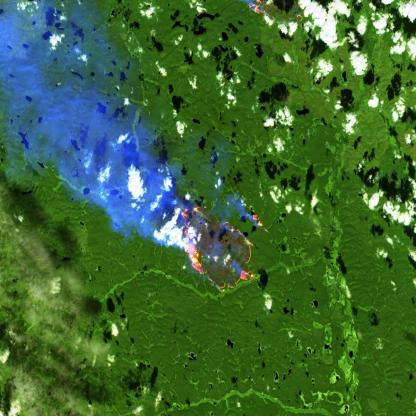fire: (179, 203, 265, 297), (248, 0, 312, 30)
